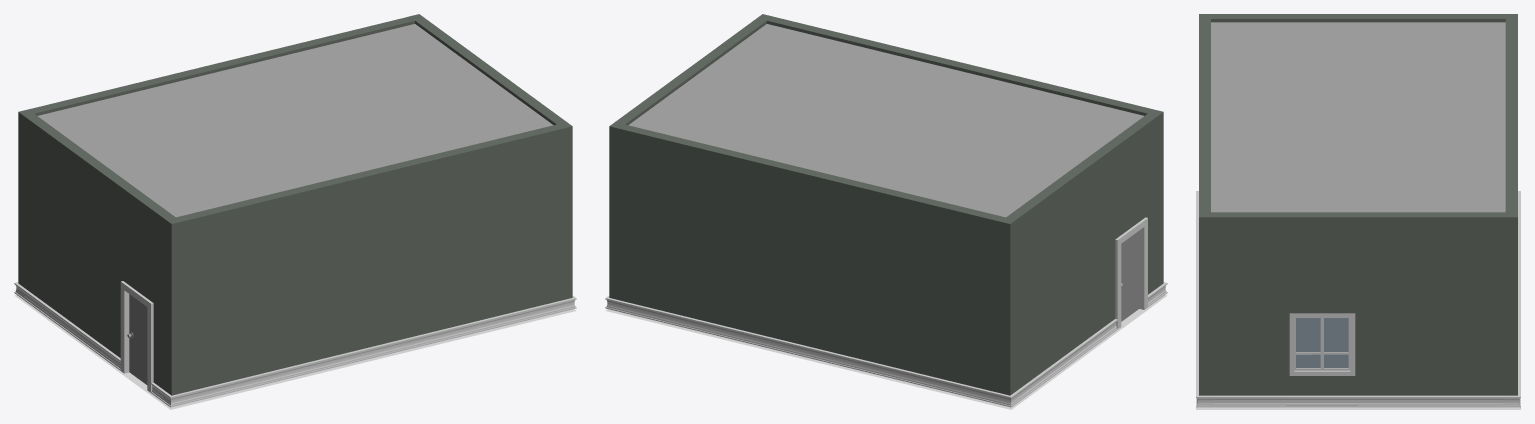
File: lvl_01_DormRoom_(Furnished).fbx
The picture shows the model from 3 angles, left to right: view 1: azimuth 30°, elevation 25°; view 2: azimuth 150°, elevation 25°; view 3: azimuth 270°, elevation 25°; orthographic projection. The views are drawn at different scales.
Parts seen in each view (by area): view 1: SM_Wall_1x14_Mesh5, SM_roomRoof_Mesh, SM_Wall_1x9_Mesh, SM_DoorWall_1x6_Mesh1, SM_WallTrim_06, SM_WallCorner_1x1_Mesh, SM_Wall_1x14_Mesh18, SM_WallCorner_1x1_Mesh3, SM_DoorTrim_01, SM_roomFloor_Mesh, SM_Door_low, SM_WallCorner_1x1_Mesh6 (+2 smaller); view 2: SM_Wall_1x14_Mesh18, SM_roomRoof_Mesh, SM_Wall_1x9_Mesh, SM_DoorWall_1x6_Mesh1, SM_WallTrim_06, SM_WallCorner_1x1_Mesh6, SM_Wall_1x14_Mesh5, SM_WallCorner_1x1_Mesh4, SM_DoorTrim_01, SM_roomFloor_Mesh, SM_Door_low, SM_WallCorner_1x1_Mesh (+2 smaller); view 3: SM_roomRoof_Mesh, SM_Wall_1x4_Mesh1, SM_Wall_1x4_Mesh, SM_WallWindow_02_1x4_Mesh, SM_WindowFrame_06, SM_WallCorner_1x1_Mesh3, SM_WallCorner_1x1_Mesh4, SM_WallTrim_04 (×2), SM_Wall_1x14_Mesh18, SM_Wall_1x14_Mesh5, SM_Wall_1x9_Mesh, SM_WallTrim_06 (×2) (+3 smaller).
Boxes of the visible parts, x1,y1,x2,y2 form: SM_Wall_1x14_Mesh5: (178, 125, 559, 392); SM_roomRoof_Mesh: (38, 24, 553, 217); SM_Wall_1x9_Mesh: (25, 114, 121, 351); SM_DoorWall_1x6_Mesh1: (112, 178, 173, 389); SM_WallTrim_06: (184, 301, 561, 403); SM_WallCorner_1x1_Mesh: (164, 216, 184, 395); SM_Wall_1x14_Mesh18: (31, 17, 412, 115); SM_WallCorner_1x1_Mesh3: (554, 121, 572, 300); SM_DoorTrim_01: (110, 281, 163, 400); SM_roomFloor_Mesh: (14, 295, 576, 409); SM_Door_low: (127, 294, 147, 384); SM_WallCorner_1x1_Mesh6: (18, 109, 36, 288); SM_Wall_1x14_Mesh18: (622, 125, 1002, 392); SM_roomRoof_Mesh: (628, 24, 1143, 217); SM_Wall_1x9_Mesh: (1008, 153, 1104, 389); SM_DoorWall_1x6_Mesh1: (1094, 114, 1156, 326); SM_WallTrim_06: (620, 301, 997, 403); SM_WallCorner_1x1_Mesh6: (997, 216, 1017, 395); SM_Wall_1x14_Mesh5: (769, 17, 1150, 115); SM_WallCorner_1x1_Mesh4: (609, 121, 627, 300); SM_DoorTrim_01: (1104, 217, 1158, 336); SM_roomFloor_Mesh: (605, 295, 1167, 409); SM_Door_low: (1121, 231, 1139, 321); SM_WallCorner_1x1_Mesh: (1145, 109, 1163, 288); SM_roomRoof_Mesh: (1211, 22, 1505, 212); SM_Wall_1x4_Mesh1: (1358, 212, 1502, 395); SM_Wall_1x4_Mesh: (1214, 212, 1286, 395); SM_WallWindow_02_1x4_Mesh: (1286, 212, 1358, 395); SM_WindowFrame_06: (1289, 313, 1355, 375); SM_WallCorner_1x1_Mesh3: (1199, 211, 1214, 395); SM_WallCorner_1x1_Mesh4: (1502, 211, 1517, 395); SM_WallTrim_04 (×2): (1214, 395, 1502, 407); SM_Wall_1x14_Mesh18: (1505, 20, 1517, 211); SM_Wall_1x14_Mesh5: (1199, 20, 1210, 210); SM_Wall_1x9_Mesh: (1322, 14, 1502, 22); SM_WallTrim_06 (×2): (1196, 198, 1520, 398).
Size of the model in its own units: 1540 by 669 by 1027.
